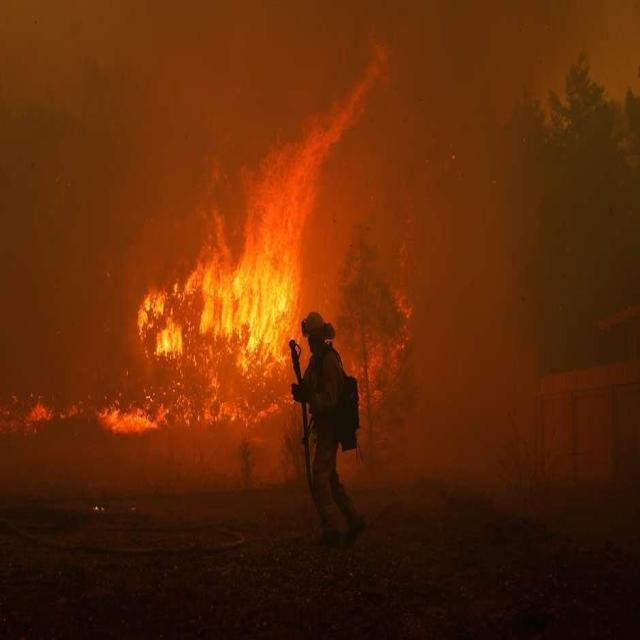Fire: (136, 46, 360, 379), (3, 385, 290, 443)
